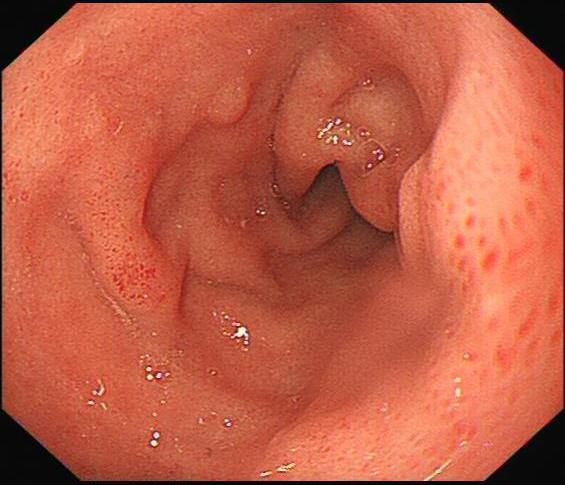Polyp: (199, 77, 251, 131)
